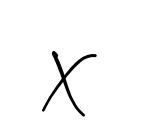mult: (42, 50, 99, 116)
